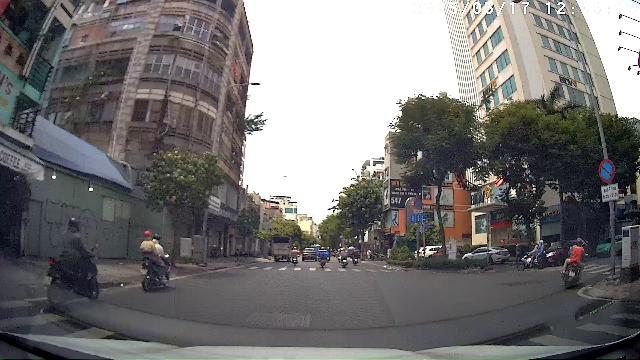131a-cam-do-xe: (598, 159, 616, 183)
